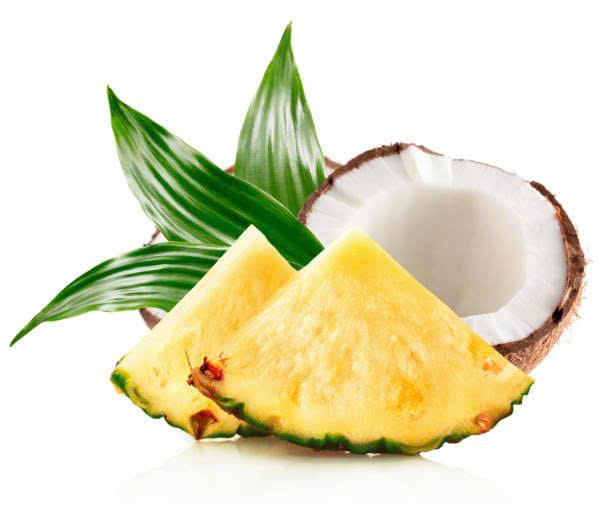pineapple: (190, 227, 534, 461)
